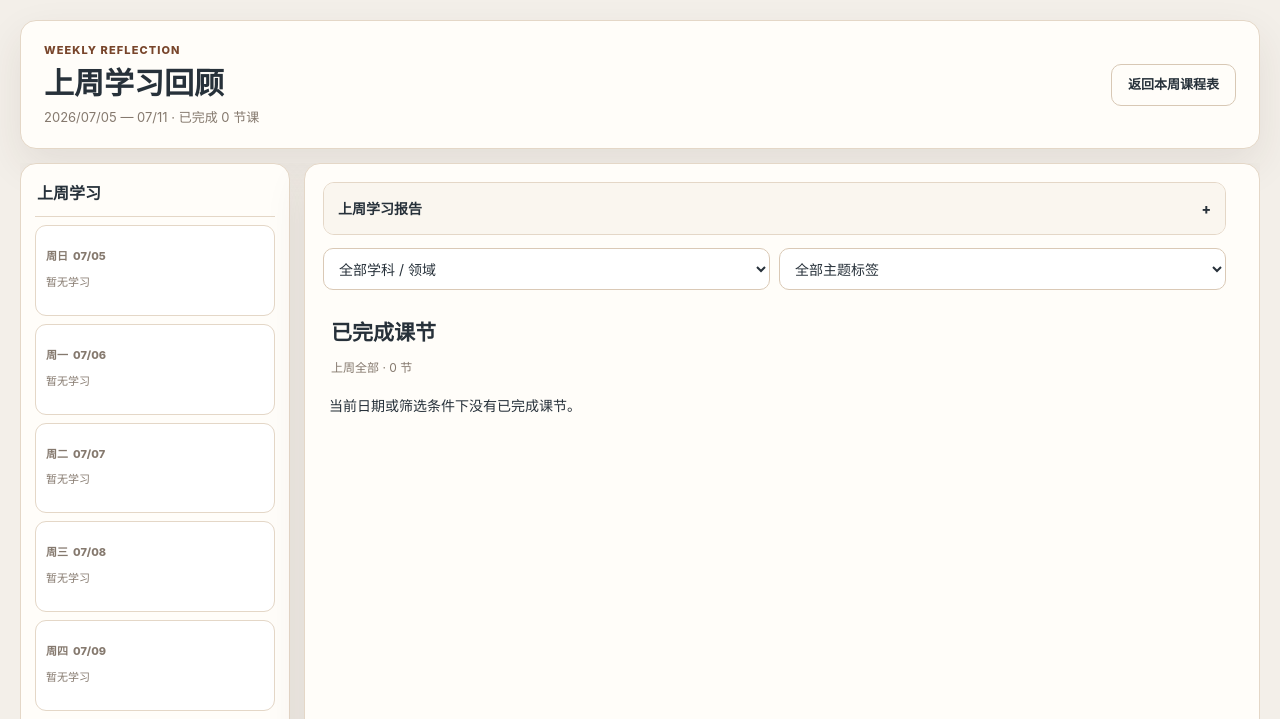
Test case: weekly snapshot state › shows the current snapshot failure state without a previous report fallback
What coordinates should you click on to do the following:
click the button "上周学习报告 +"
I would click on:
 (380, 209)
Its box is [324,183,1225,234].
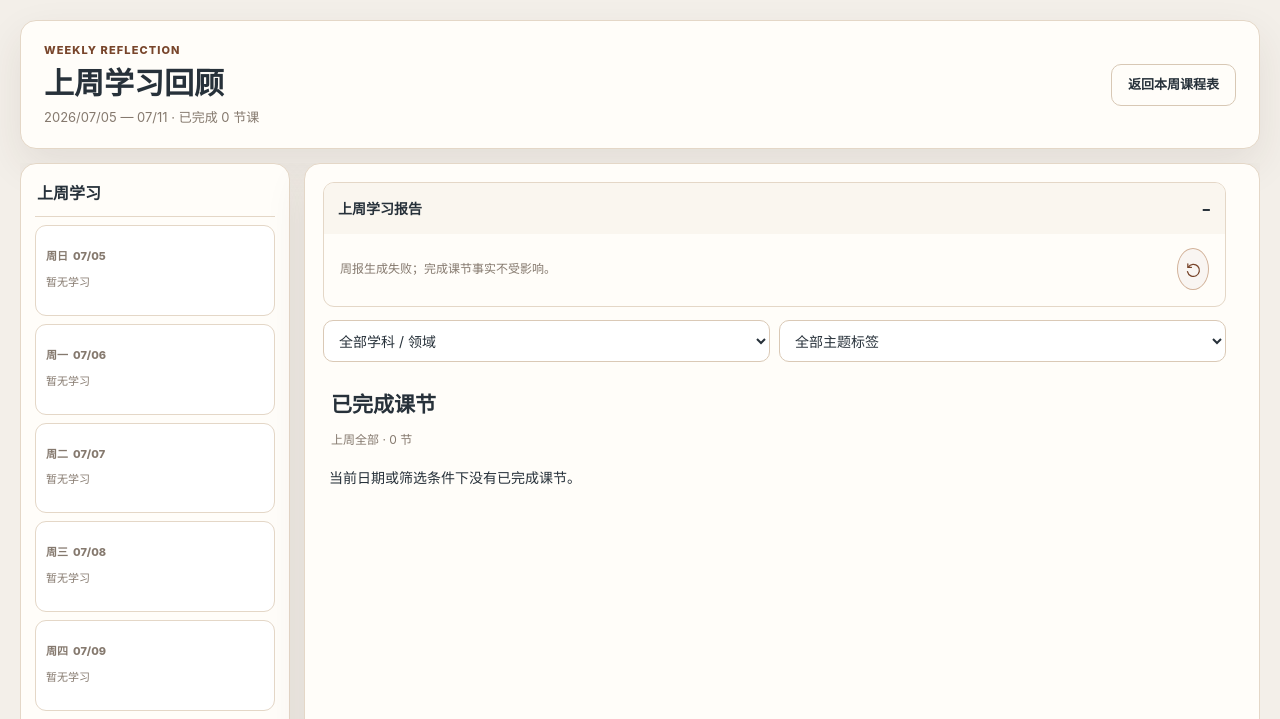
Expected: the message shows "周报生成失败", [340,261,556,276]
Expected: the icon is shown, [1184,261,1202,278]
